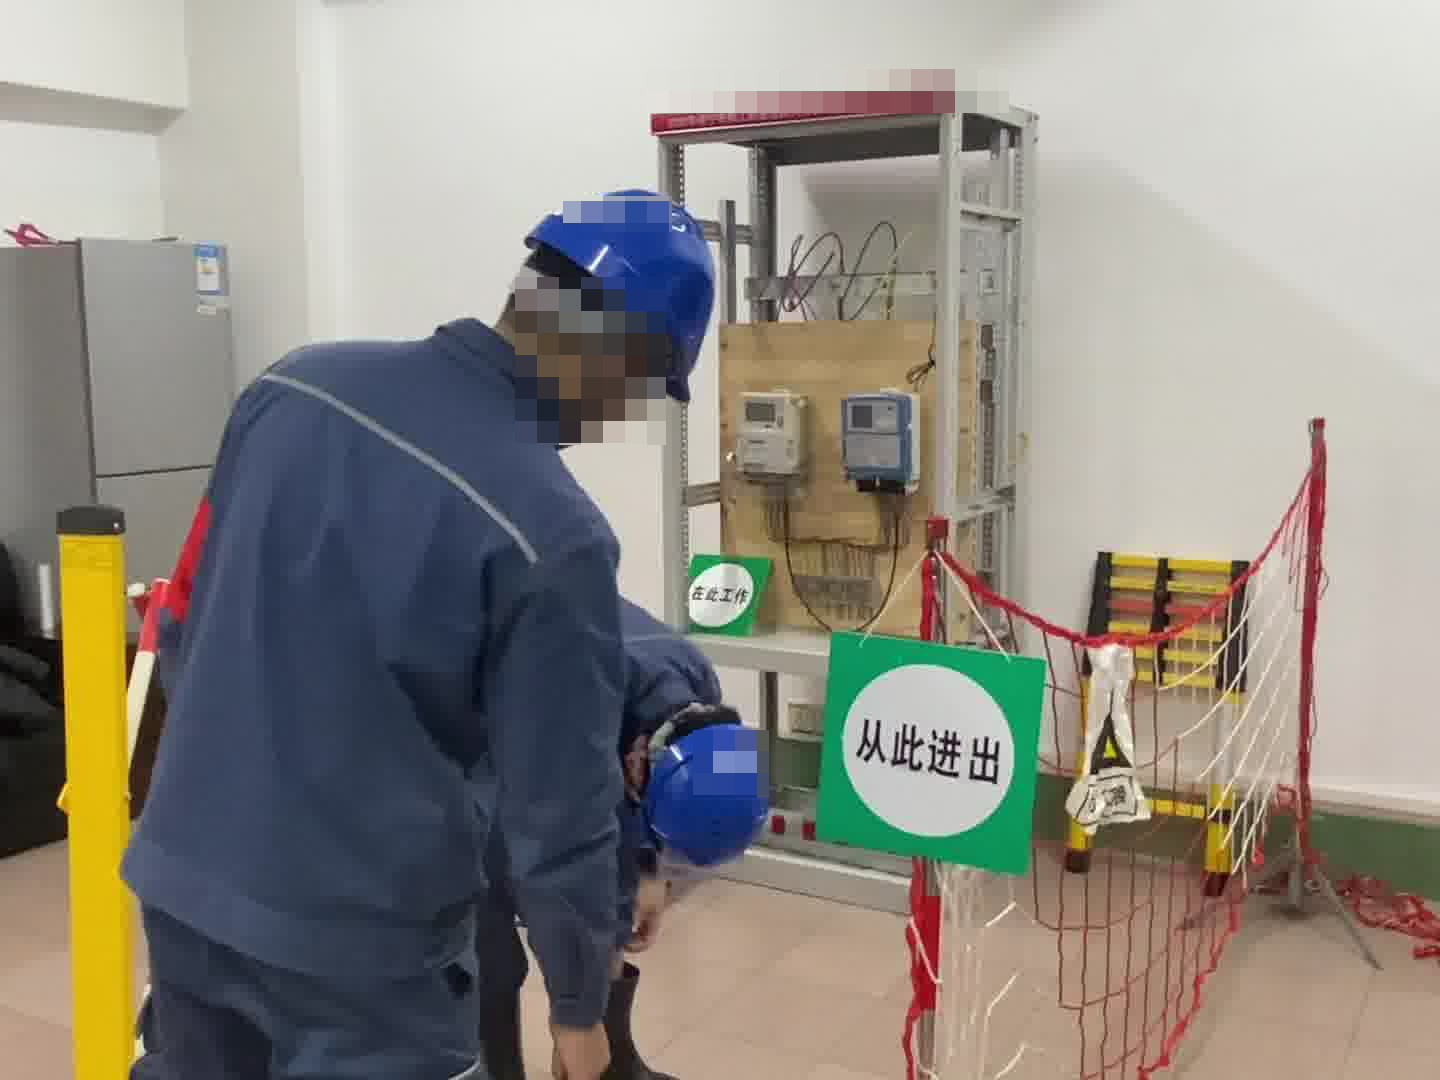badge: (149, 493, 217, 619)
halt: (491, 179, 724, 432), (642, 723, 776, 872)
hand: (547, 1015, 613, 1080)
inear: (555, 314, 675, 435)
intosign: (816, 625, 1045, 885)
person: (89, 172, 726, 1073), (485, 573, 775, 1080)
shoe: (571, 953, 689, 1080)
upsuit: (128, 316, 667, 1025)
worksign: (679, 549, 771, 643)
